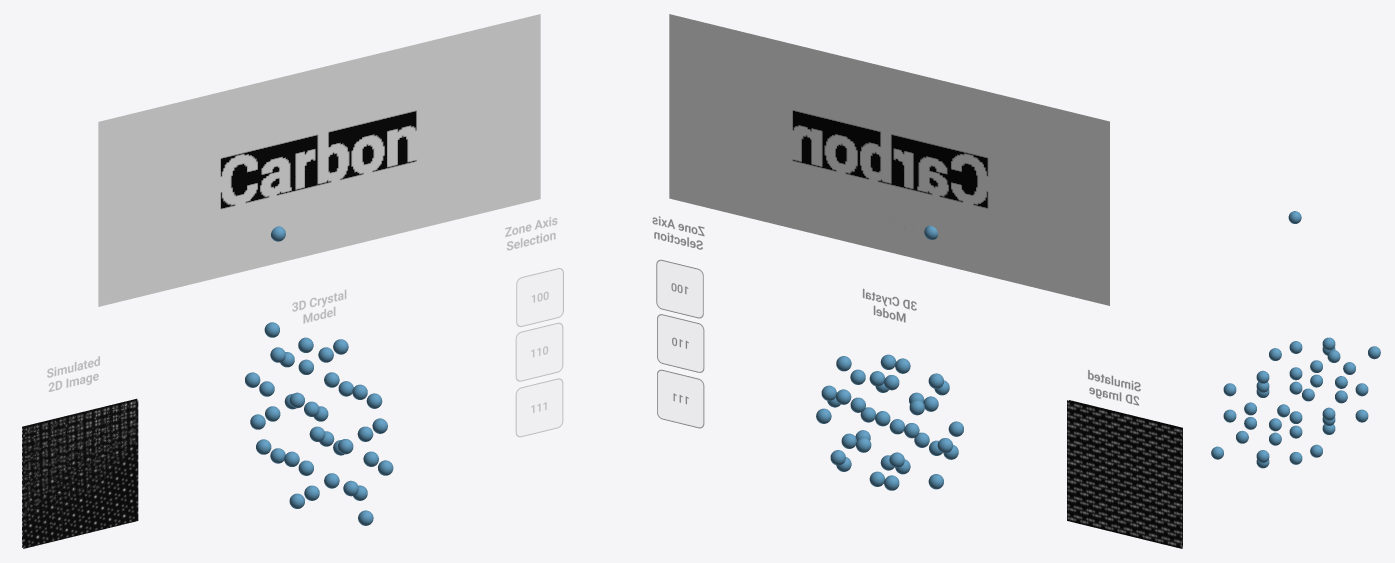
Rendered from Carbon Structure Viewer State 110.glb.
The picture shows the model from 3 angles, left to right: view 1: azimuth 30°, elevation 25°; view 2: azimuth 150°, elevation 25°; view 3: azimuth 270°, elevation 25°; orthographic projection. The views are drawn at different scales.
Parts seen in each view (by area): view 1: CarbonTitle, 111_Image, 100_Image; view 2: CarbonTitle, 110_Image; view 3: no part large enough to name.
Part boxes in pixels (x1,y1,x2,y2): CarbonTitle: [98, 14, 540, 306]; 111_Image: [23, 400, 138, 548]; 100_Image: [23, 400, 137, 546]; CarbonTitle: [669, 14, 1109, 305]; 110_Image: [1067, 400, 1182, 548].
Size of the model in its own units: 1.71 by 1.22 by 0.5278.
Materials: 13 (11 with a texture image).
